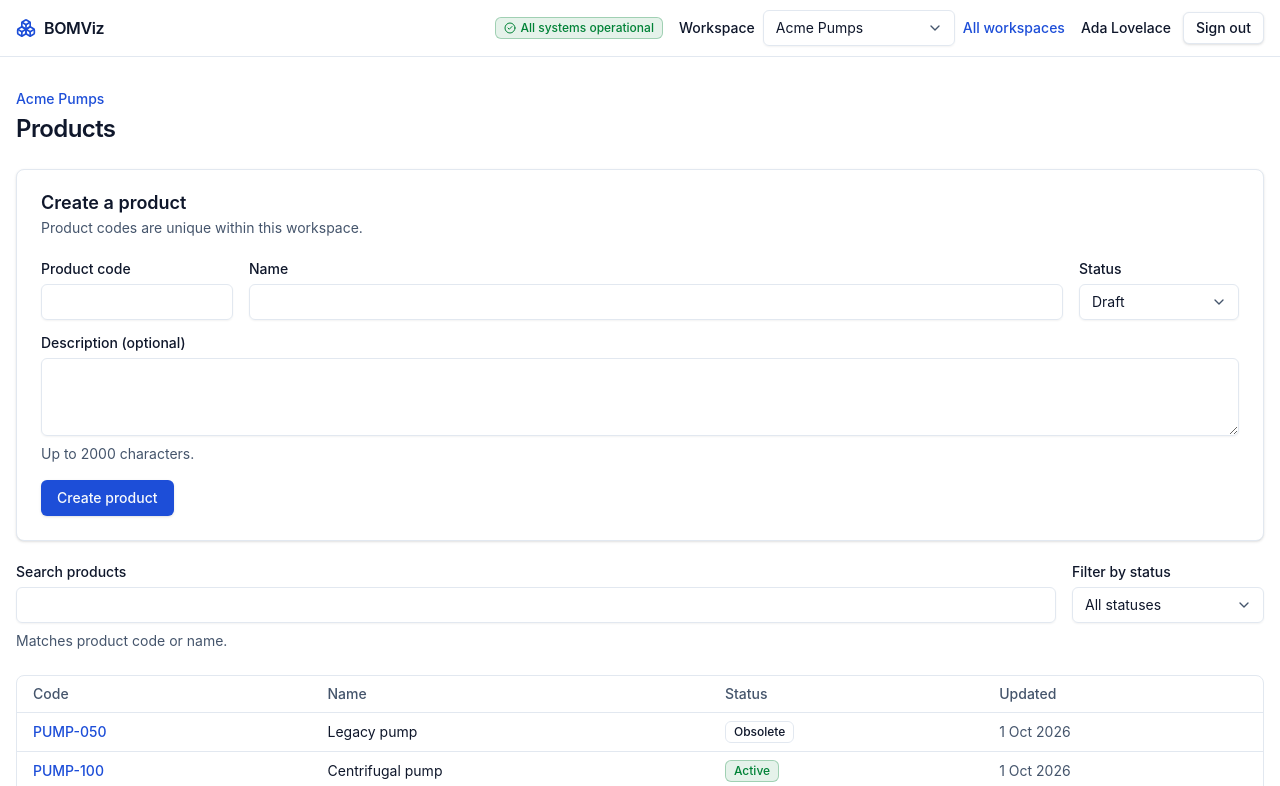
Test: ProductsPage create › shows PRODUCT_CODE_TAKEN next to the form and keeps the input
The image size is (1280, 786).
In the field labelled "Product code": {"x": 137, "y": 302} [41, 284, 233, 320], type "PUMP-100"
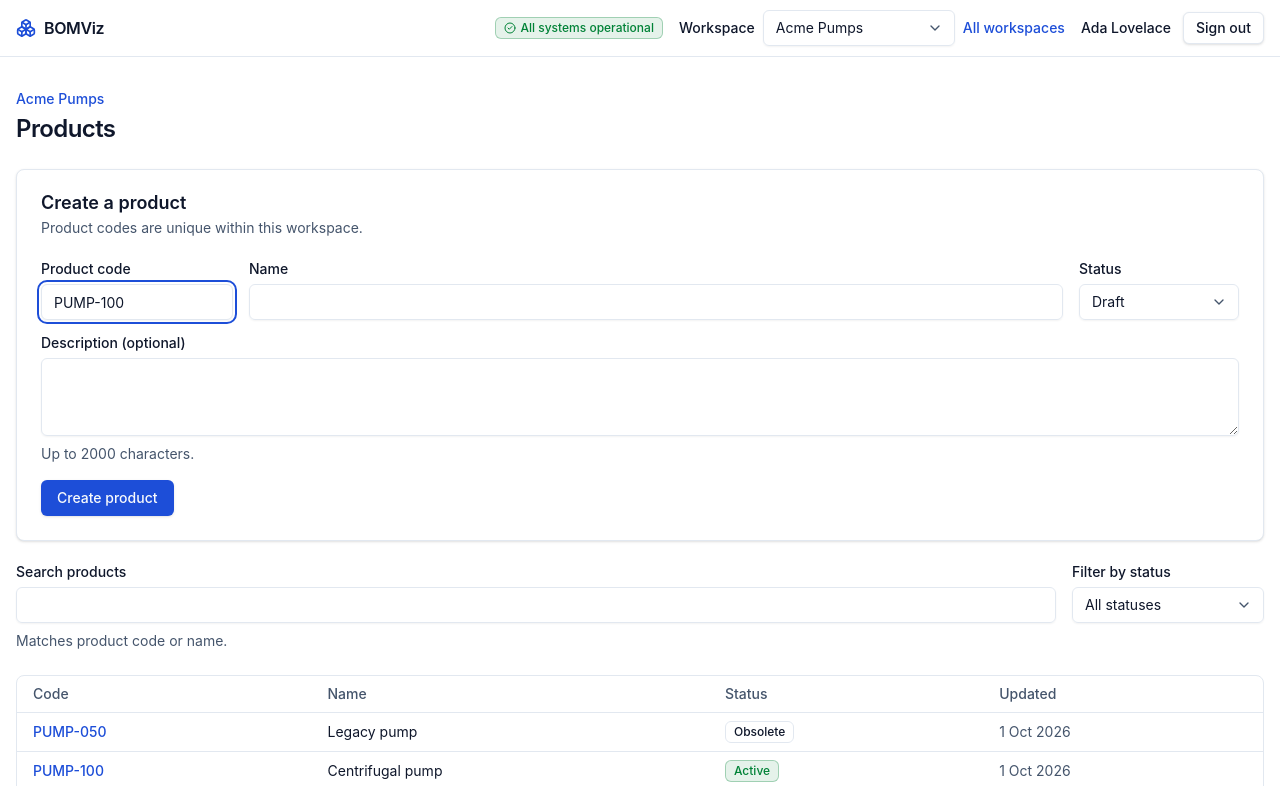
In the field labelled "Name": {"x": 656, "y": 302} [249, 284, 1063, 320], type "Another pump"
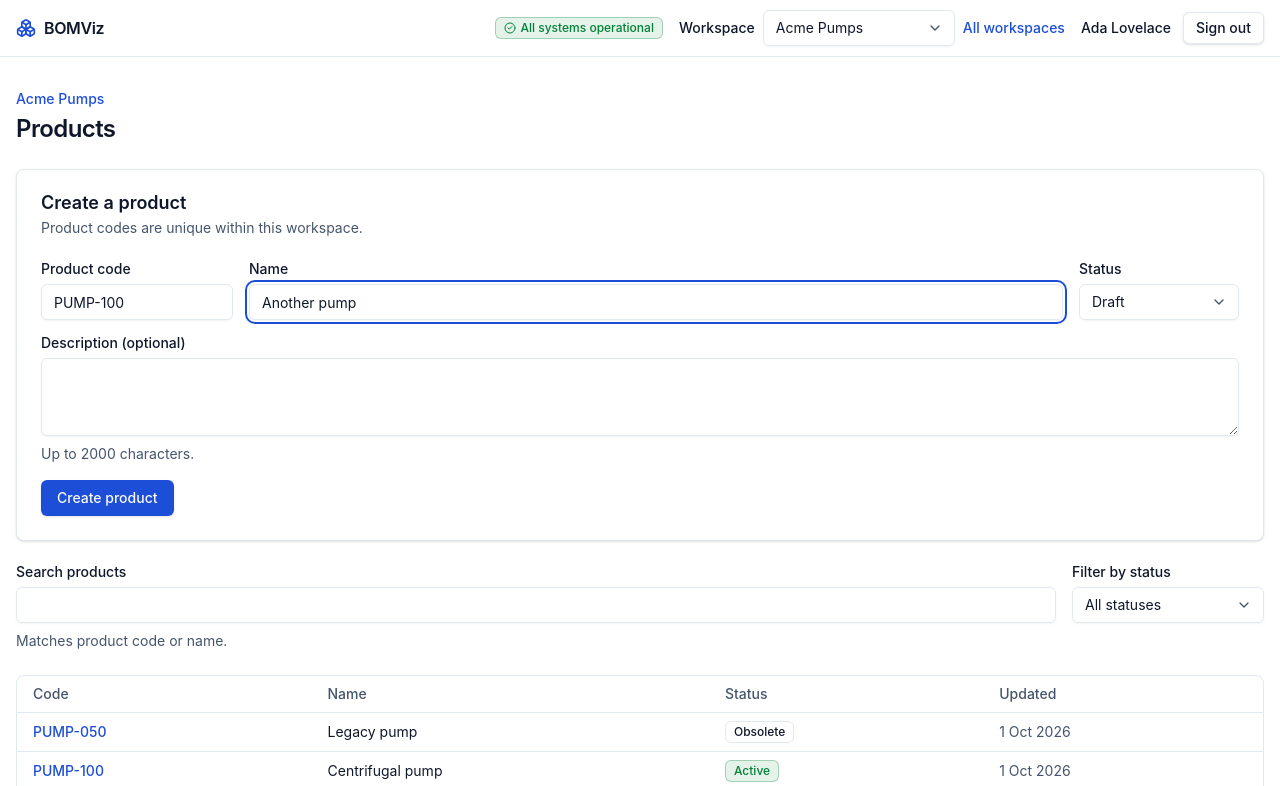
Click the button "Create product": {"x": 107, "y": 498} [41, 480, 174, 516]
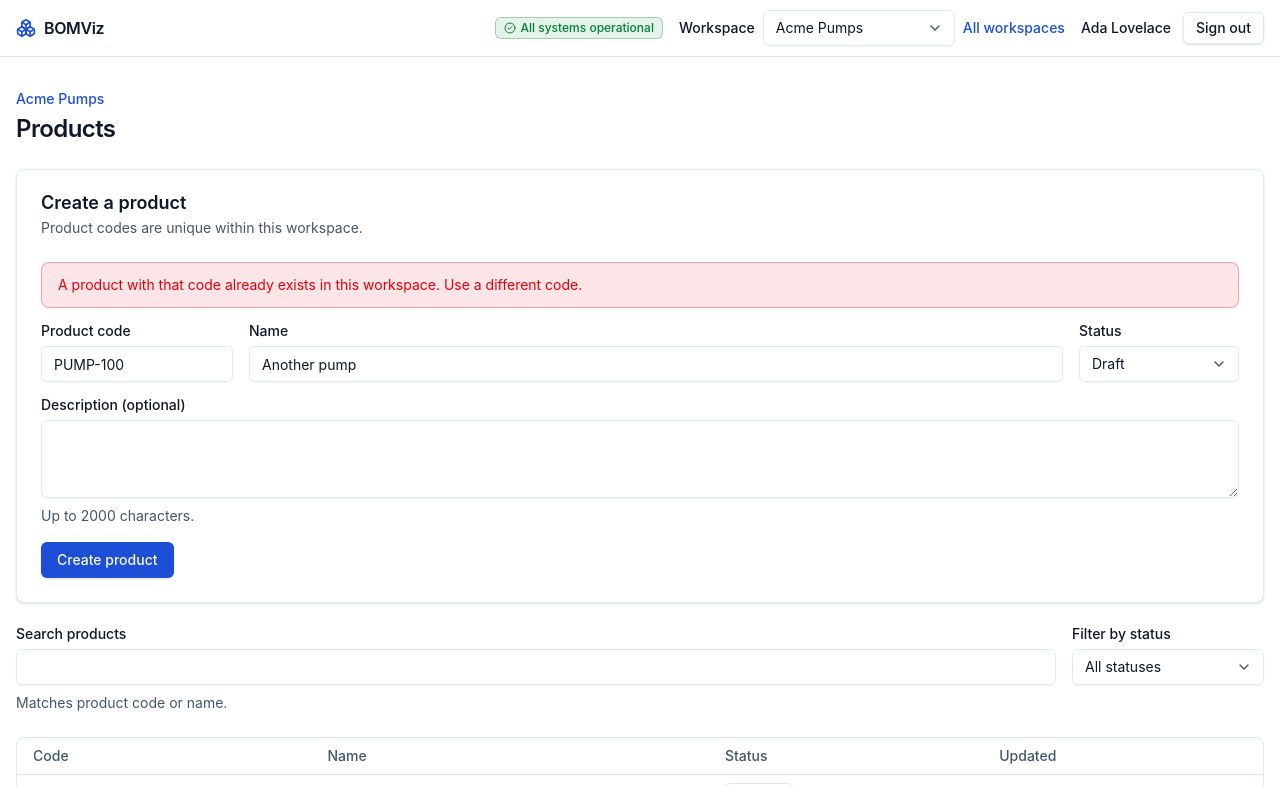
Now the 2nd message shows "A product with that code already exists in this workspace.", box [58, 276, 582, 293]
